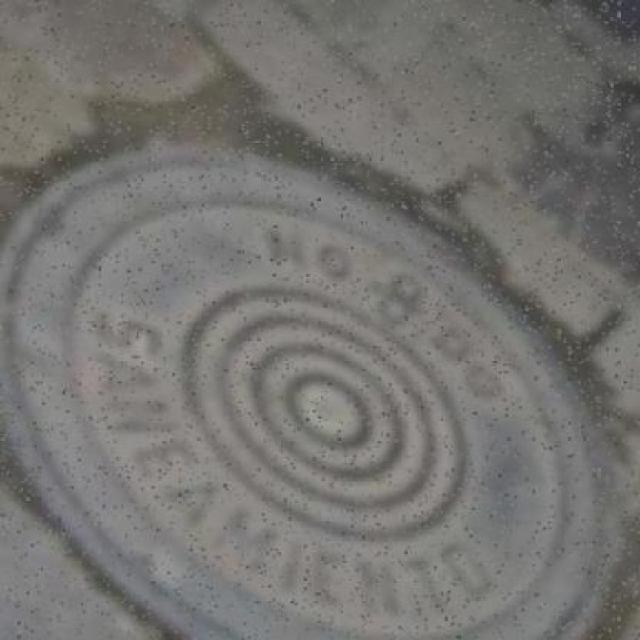Manhole: (4, 134, 622, 638)
